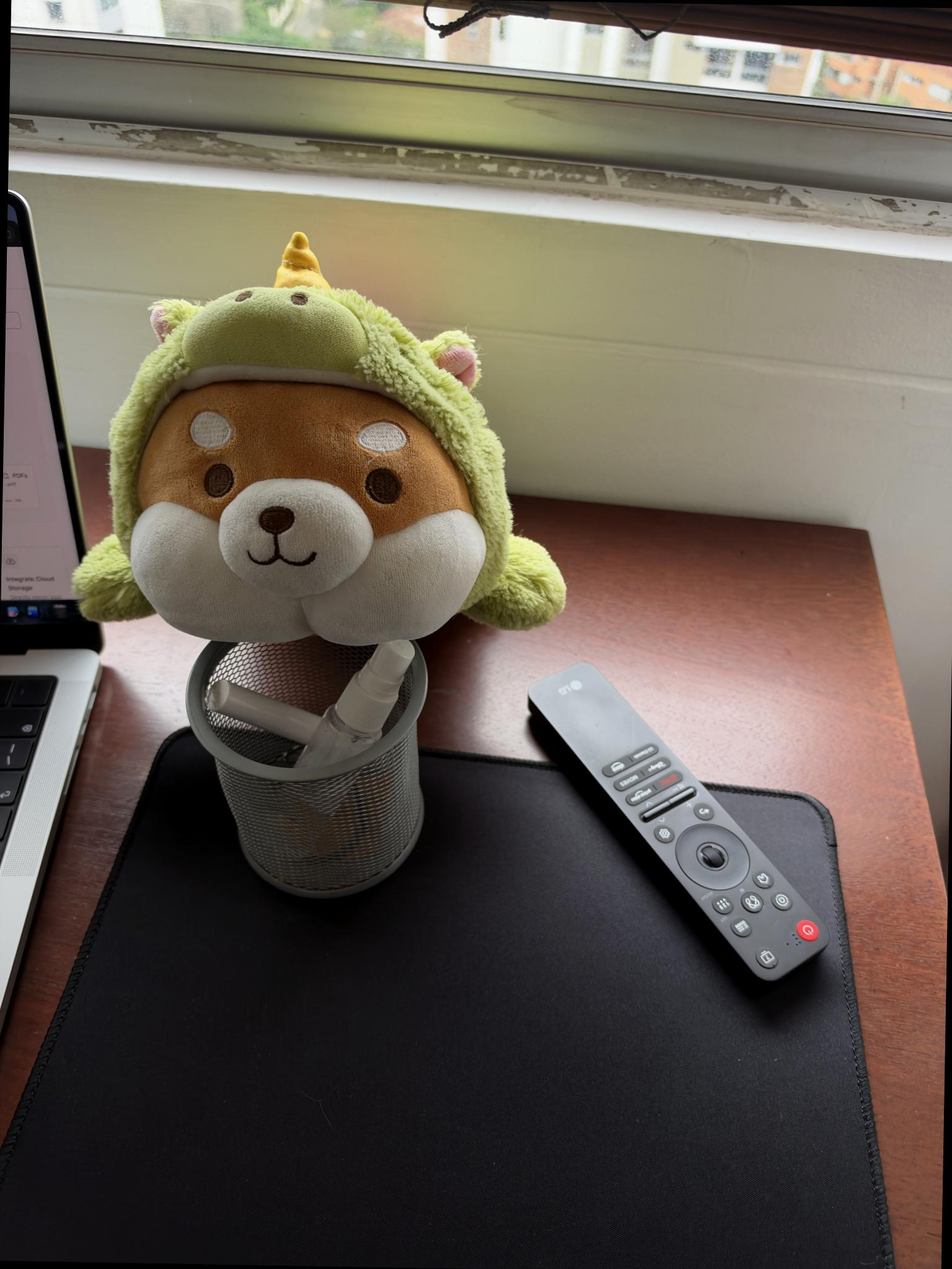peluche_martin: (68, 226, 574, 650)
